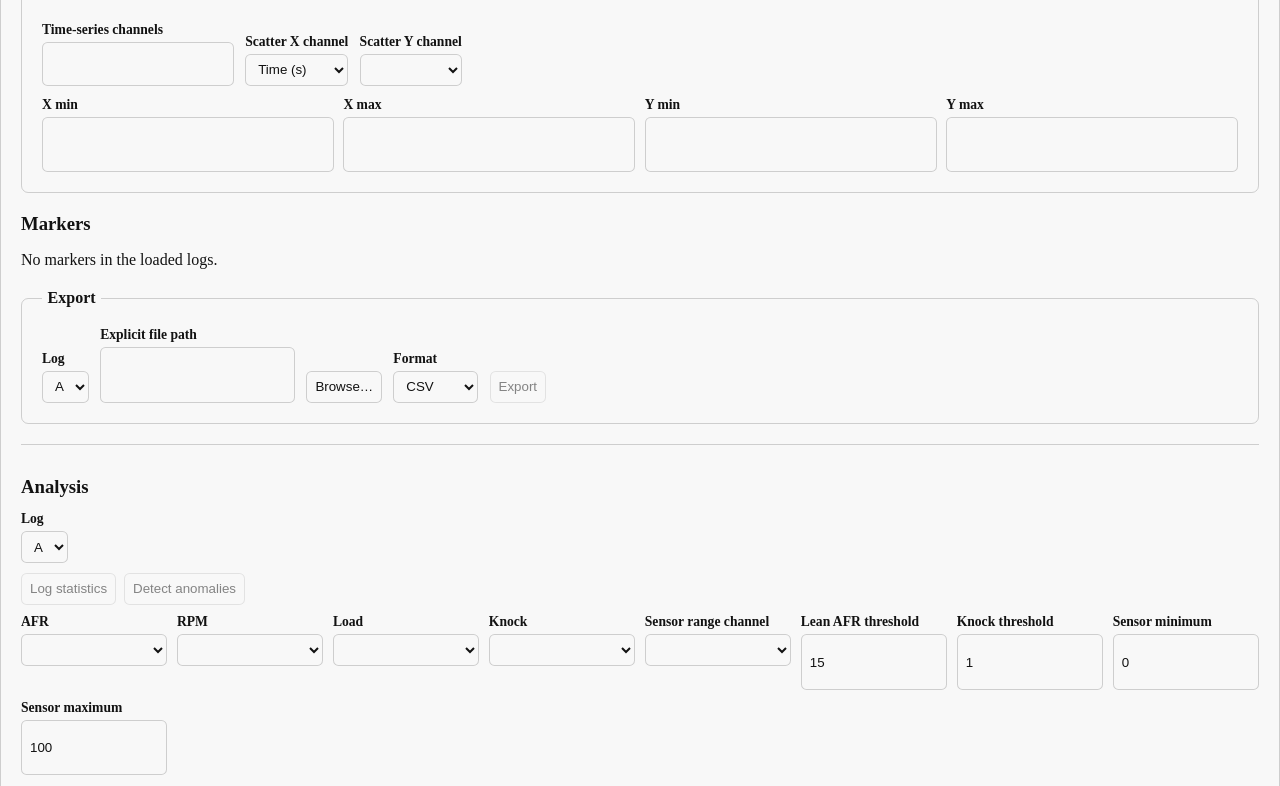
Test: DatalogPanel › Browse buttons (native file dialogs) › Export Browse uses save() and fills the export destination path
The image size is (1280, 786).
(page scrolled)
Click the button "Browse…" at point(344, 387), box left=306, top=371, right=382, bottom=403
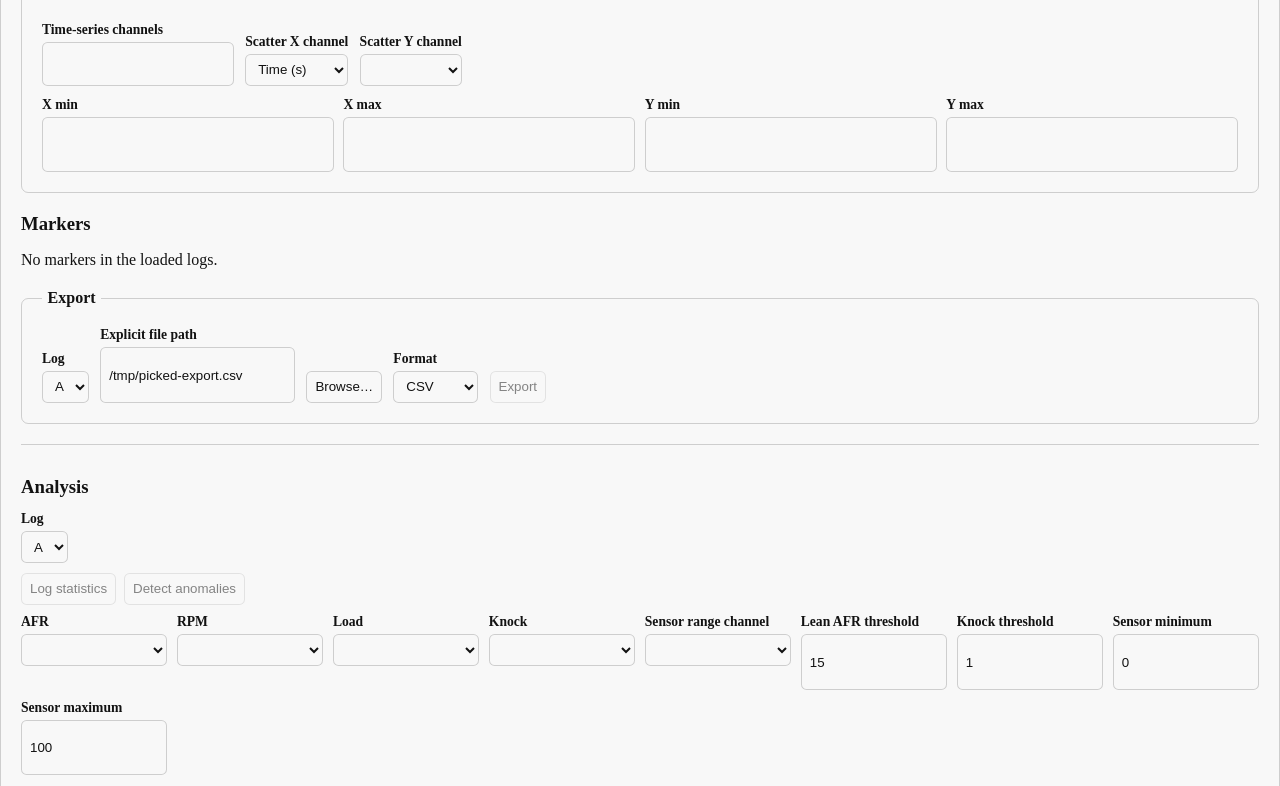
Result: the field labelled "Explicit file path" holds "/tmp/picked-export.csv" at left=100, top=347, right=295, bottom=403
